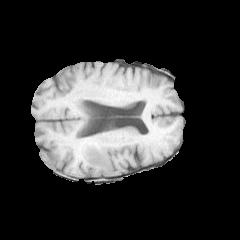glioma: (77, 134, 135, 176)
